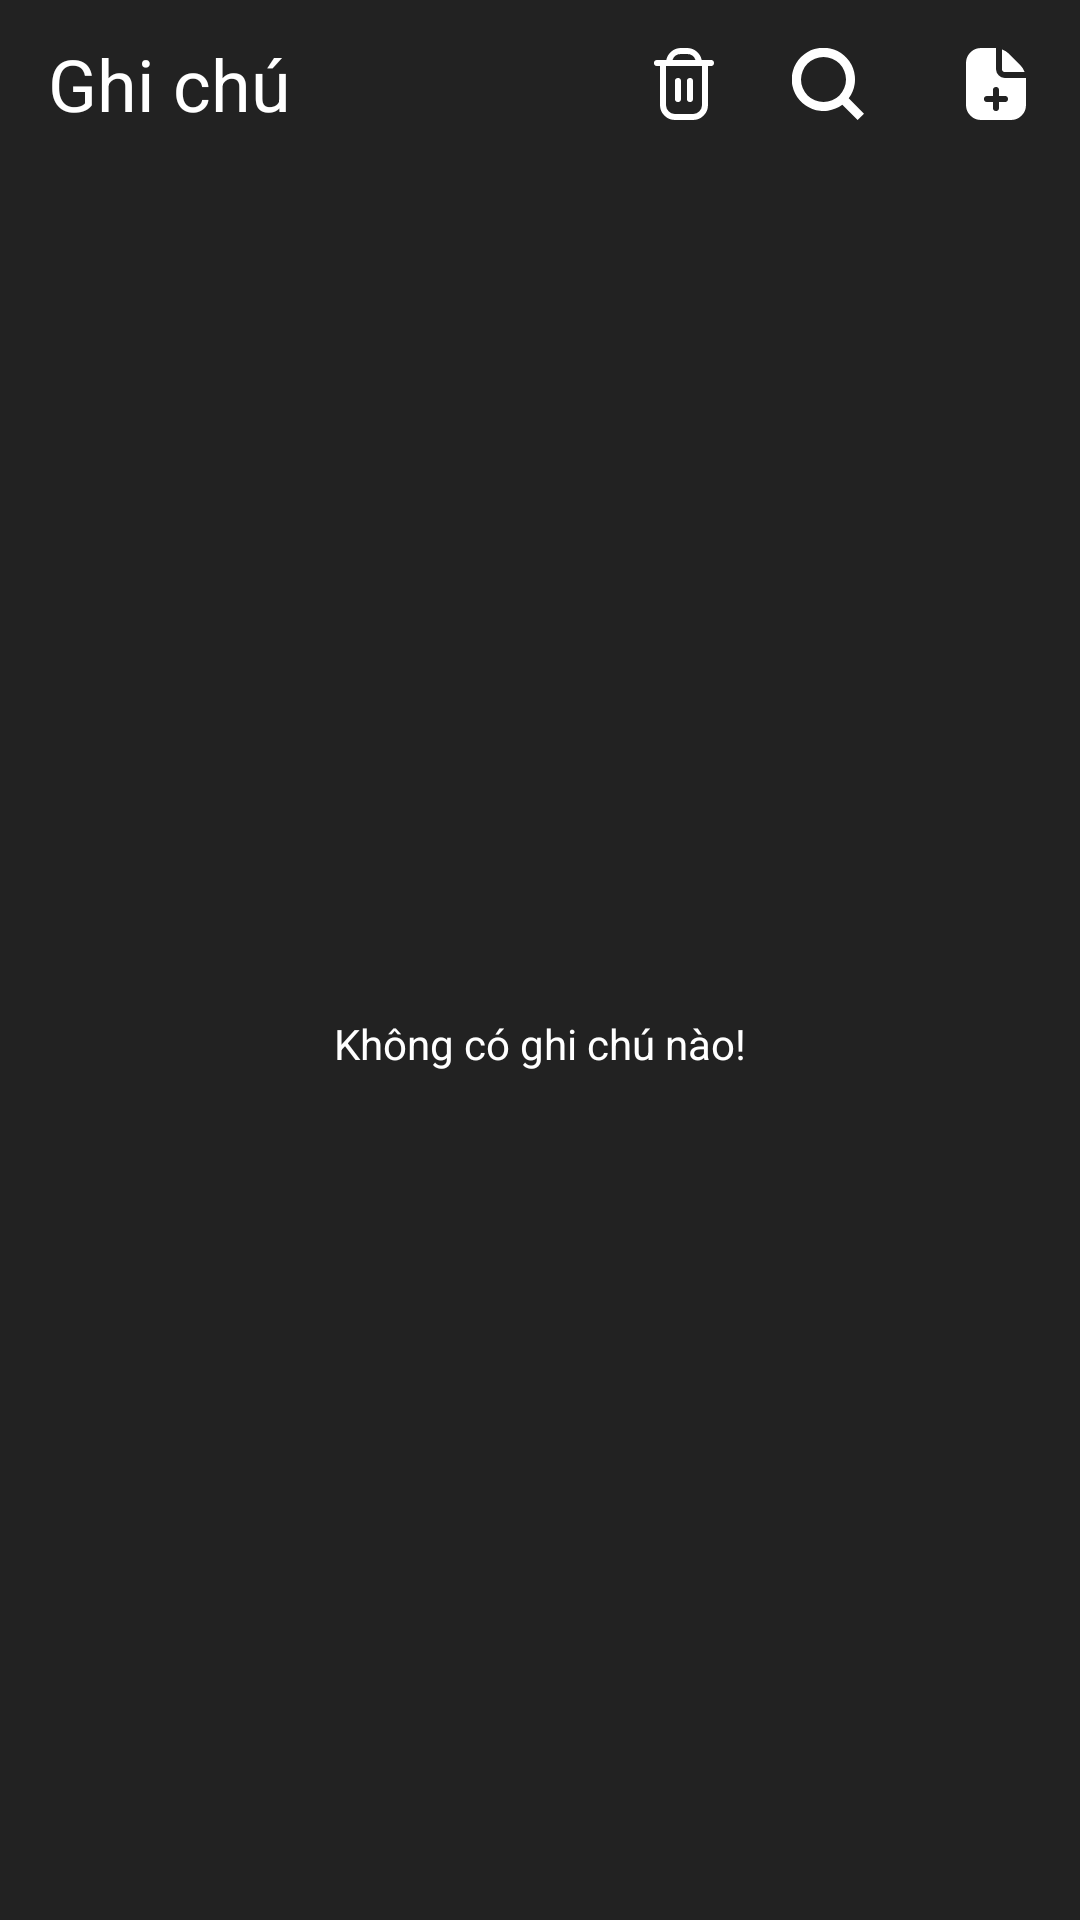

Icons on this 1080 × 1920 Android screen, each with the point to tap as (x=x, y=y):
Add Note: (x=996, y=84)
Delete Note: (x=684, y=84)
Search Note: (x=828, y=84)
